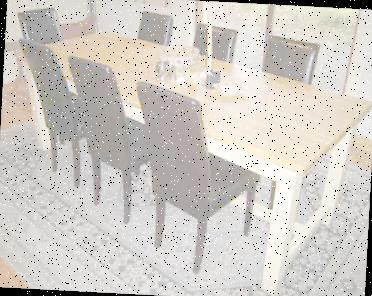Mesa: (6, 25, 371, 295)
Silla: (126, 80, 264, 281), (4, 33, 142, 195), (54, 51, 177, 231), (240, 25, 325, 224), (169, 17, 243, 169), (11, 1, 92, 131), (100, 6, 176, 135)
